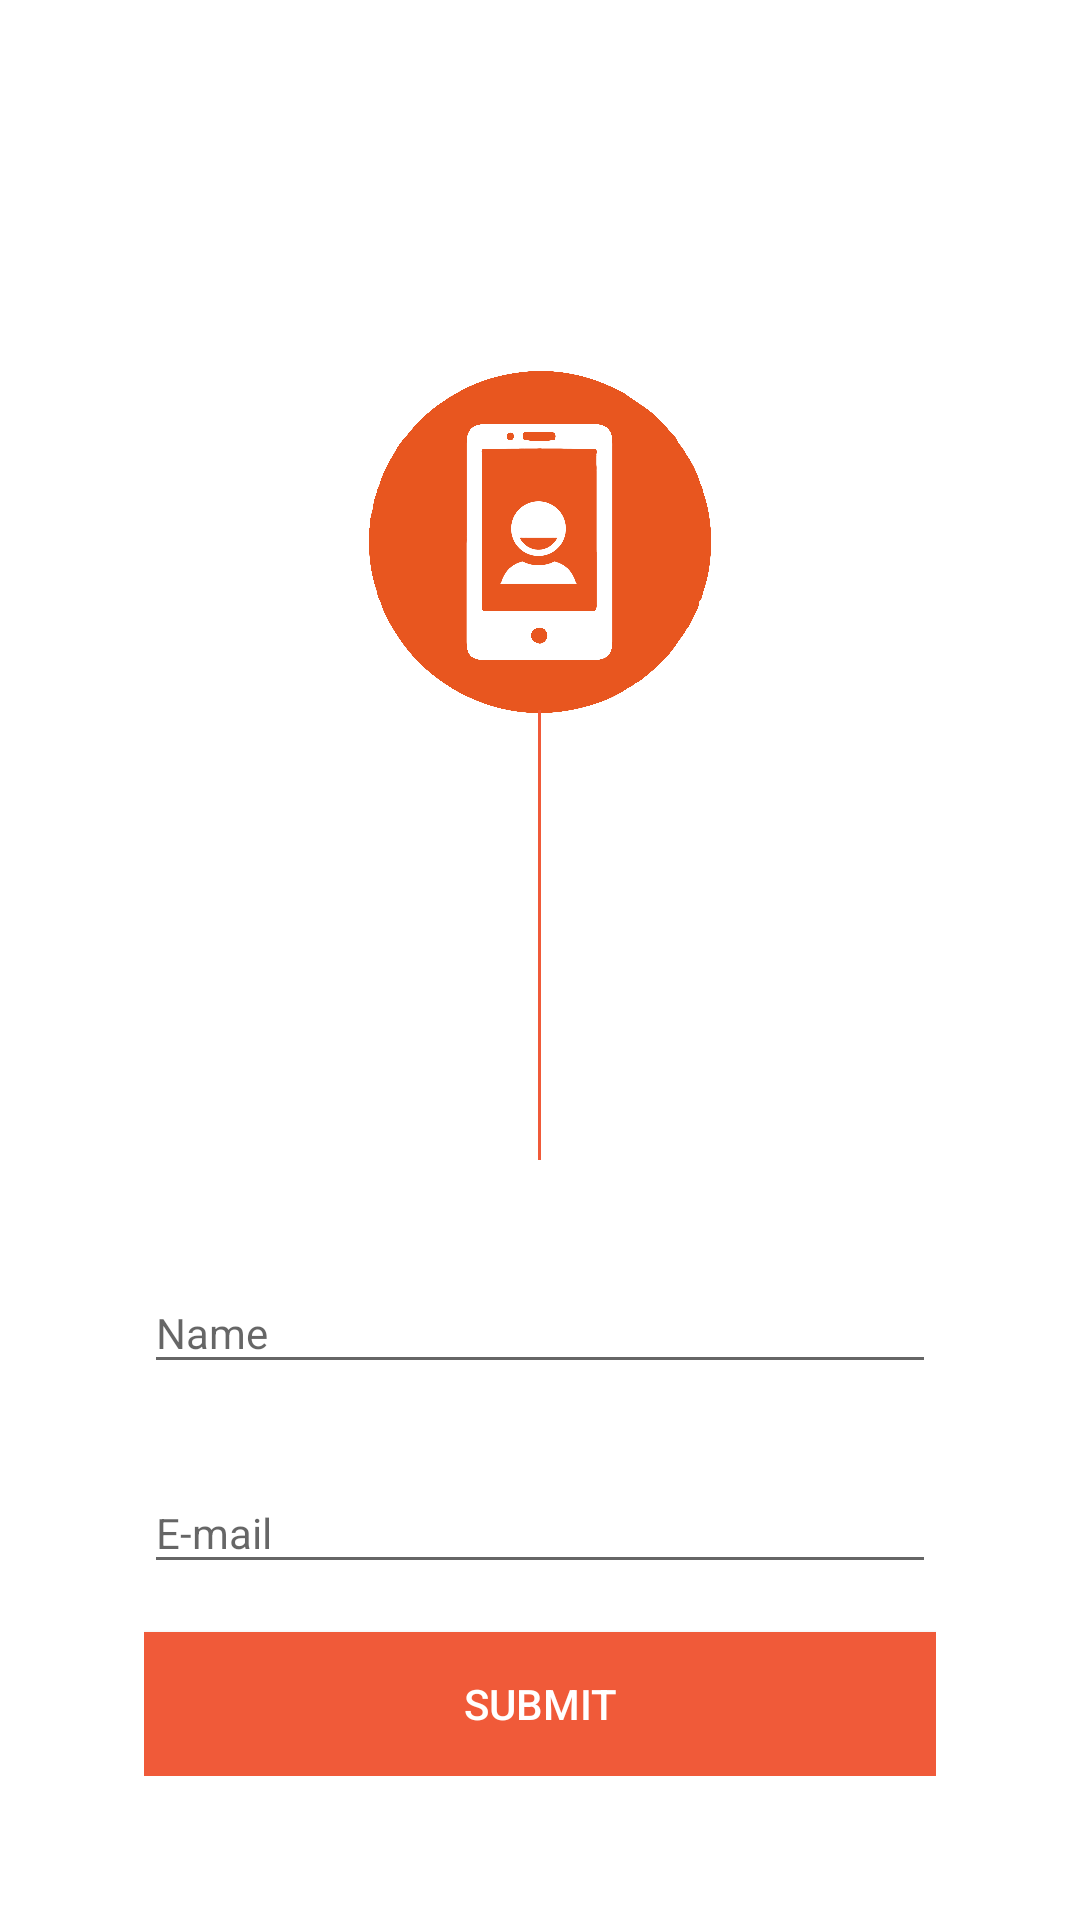

Screen size 1080*1920. Icon name, then its box in pixels as (x1=x1, y1=y1, x2=x2, y2=y2):
art profile: (x1=369, y1=371, x2=711, y2=715)
